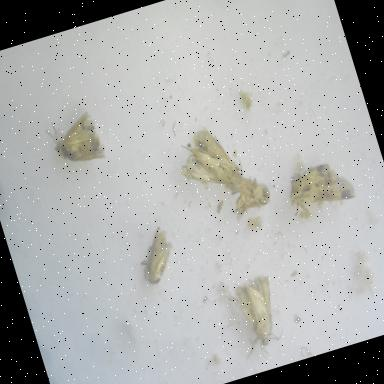abw: (218, 264, 296, 369), (167, 115, 249, 202), (278, 151, 361, 224), (38, 103, 111, 177), (127, 219, 186, 293), (218, 162, 279, 223)
